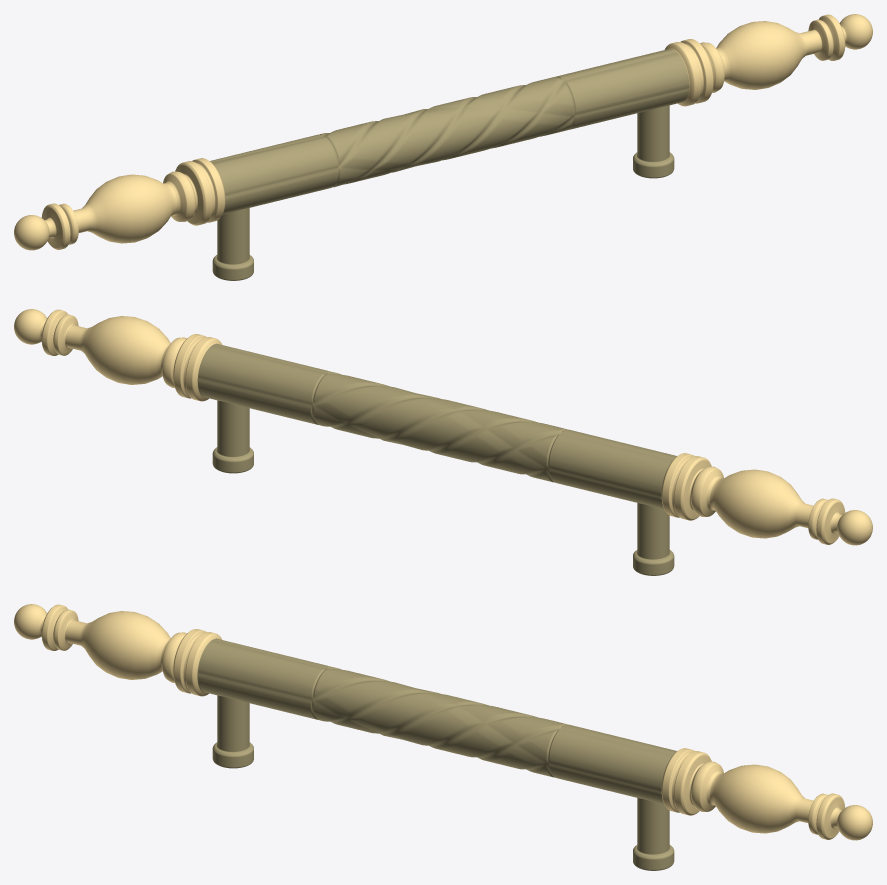
Rendered from door-handles-1731.glb.
3 views of the same model, one above another, from view 1: azimuth 30°, elevation 25°; view 2: azimuth 150°, elevation 25°; view 3: azimuth 330°, elevation 25° (orthographic).
Parts seen in each view (by area): view 1: Bar, Post 1, Post -1; view 2: Bar, Post 1, Post -1; view 3: Bar, Post -1, Post 1.
Part boxes in pixels (box(x1,y1,x2,y2)): Bar: box(14, 14, 872, 250); Post 1: box(633, 105, 674, 178); Post -1: box(212, 208, 253, 280); Bar: box(14, 309, 872, 545); Post 1: box(212, 400, 253, 473); Post -1: box(633, 503, 674, 575); Bar: box(14, 604, 872, 840); Post -1: box(212, 695, 253, 768); Post 1: box(633, 798, 674, 870).
Bounding box in the file's own units: 0.305 × 0.041 × 0.021.
